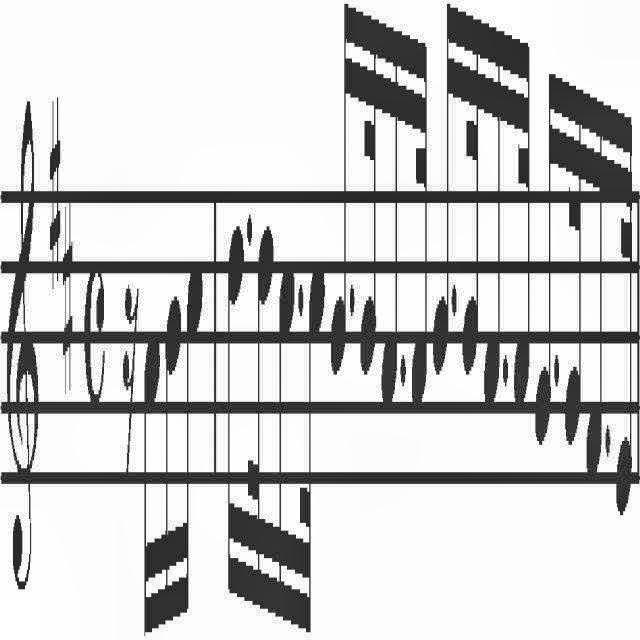Bass-clef: (5, 87, 38, 640)
Diez: (58, 167, 76, 405), (48, 65, 61, 287)
Sixteenth-note: (328, 1, 352, 392), (162, 266, 186, 640), (183, 238, 204, 640), (534, 49, 554, 460), (584, 77, 604, 485), (224, 210, 242, 640), (483, 0, 501, 428), (384, 11, 401, 436), (140, 308, 162, 628), (434, 5, 451, 411), (278, 254, 294, 630)
